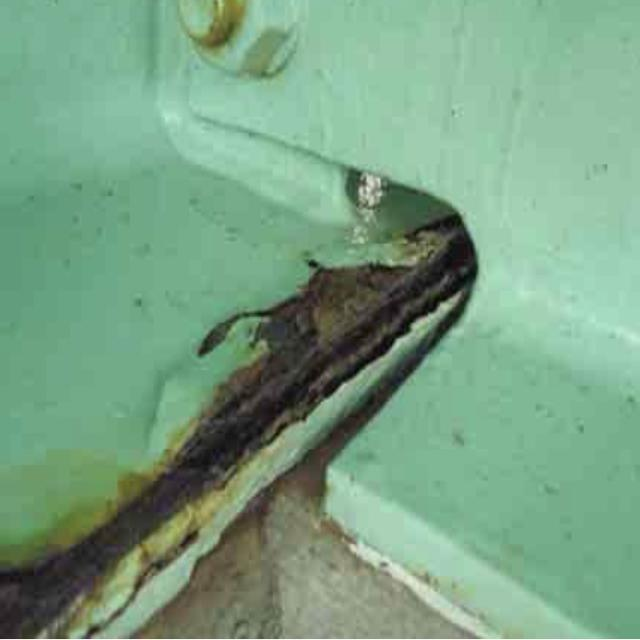corrosion: (5, 388, 328, 640), (194, 216, 469, 367)
